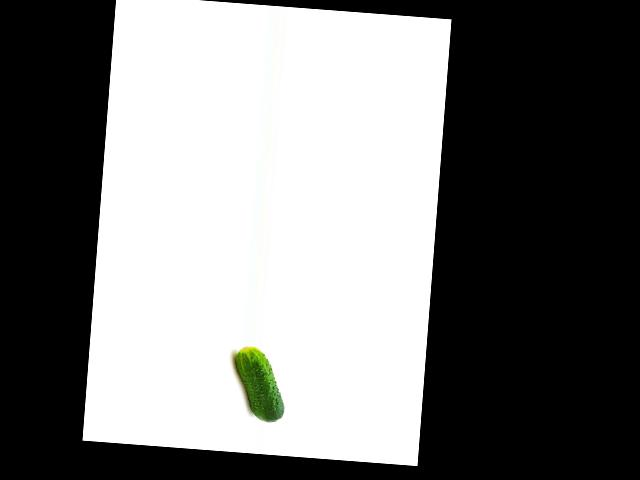cucumber: (230, 345, 288, 423)
